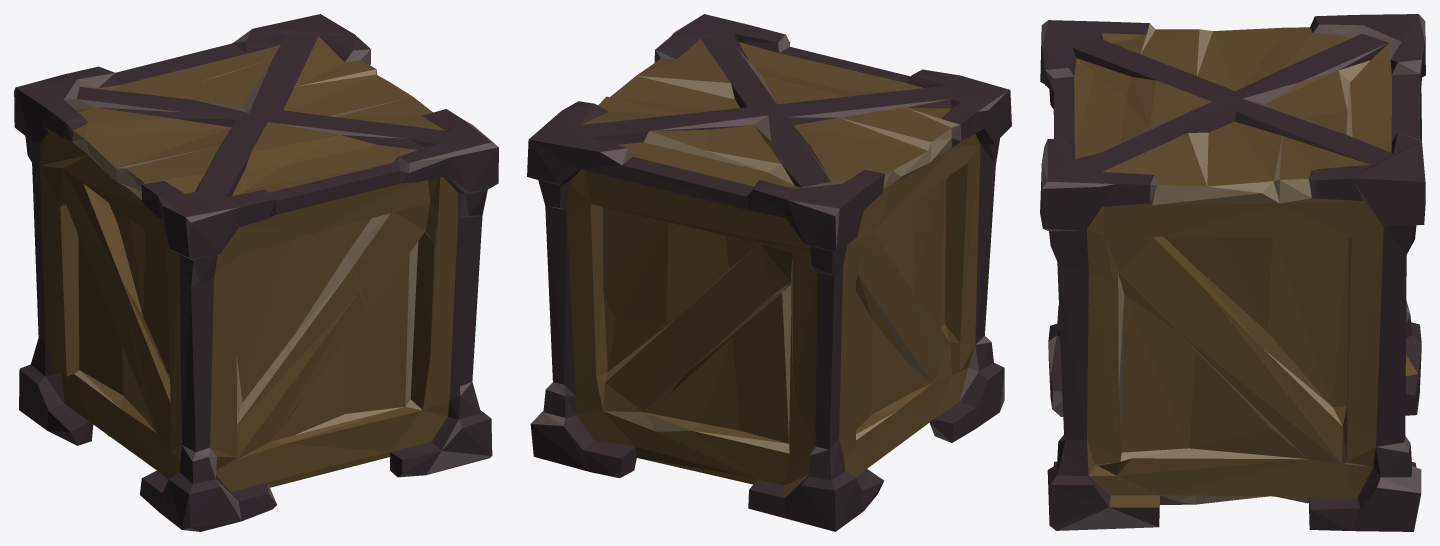
File: MDungeon_Crate_MetalTrim_01.FBX
The picture shows the model from 3 angles, left to right: view 1: azimuth 30°, elevation 25°; view 2: azimuth 150°, elevation 25°; view 3: azimuth 270°, elevation 25°; orthographic projection. The views are drawn at different scales.
Visible parts, largest first — view 1: MDungeon_Crate_MetalTrim_01_LOD0; view 2: MDungeon_Crate_MetalTrim_01_LOD0; view 3: MDungeon_Crate_MetalTrim_01_LOD0.
Boxes of the visible parts, bbox=[...] form: MDungeon_Crate_MetalTrim_01_LOD0: bbox=[14, 14, 498, 531]; MDungeon_Crate_MetalTrim_01_LOD0: bbox=[527, 14, 1011, 531]; MDungeon_Crate_MetalTrim_01_LOD0: bbox=[1040, 14, 1425, 531].
Size of what is drawn, in the model's own units: 1.1 by 1.1 by 1.08.
